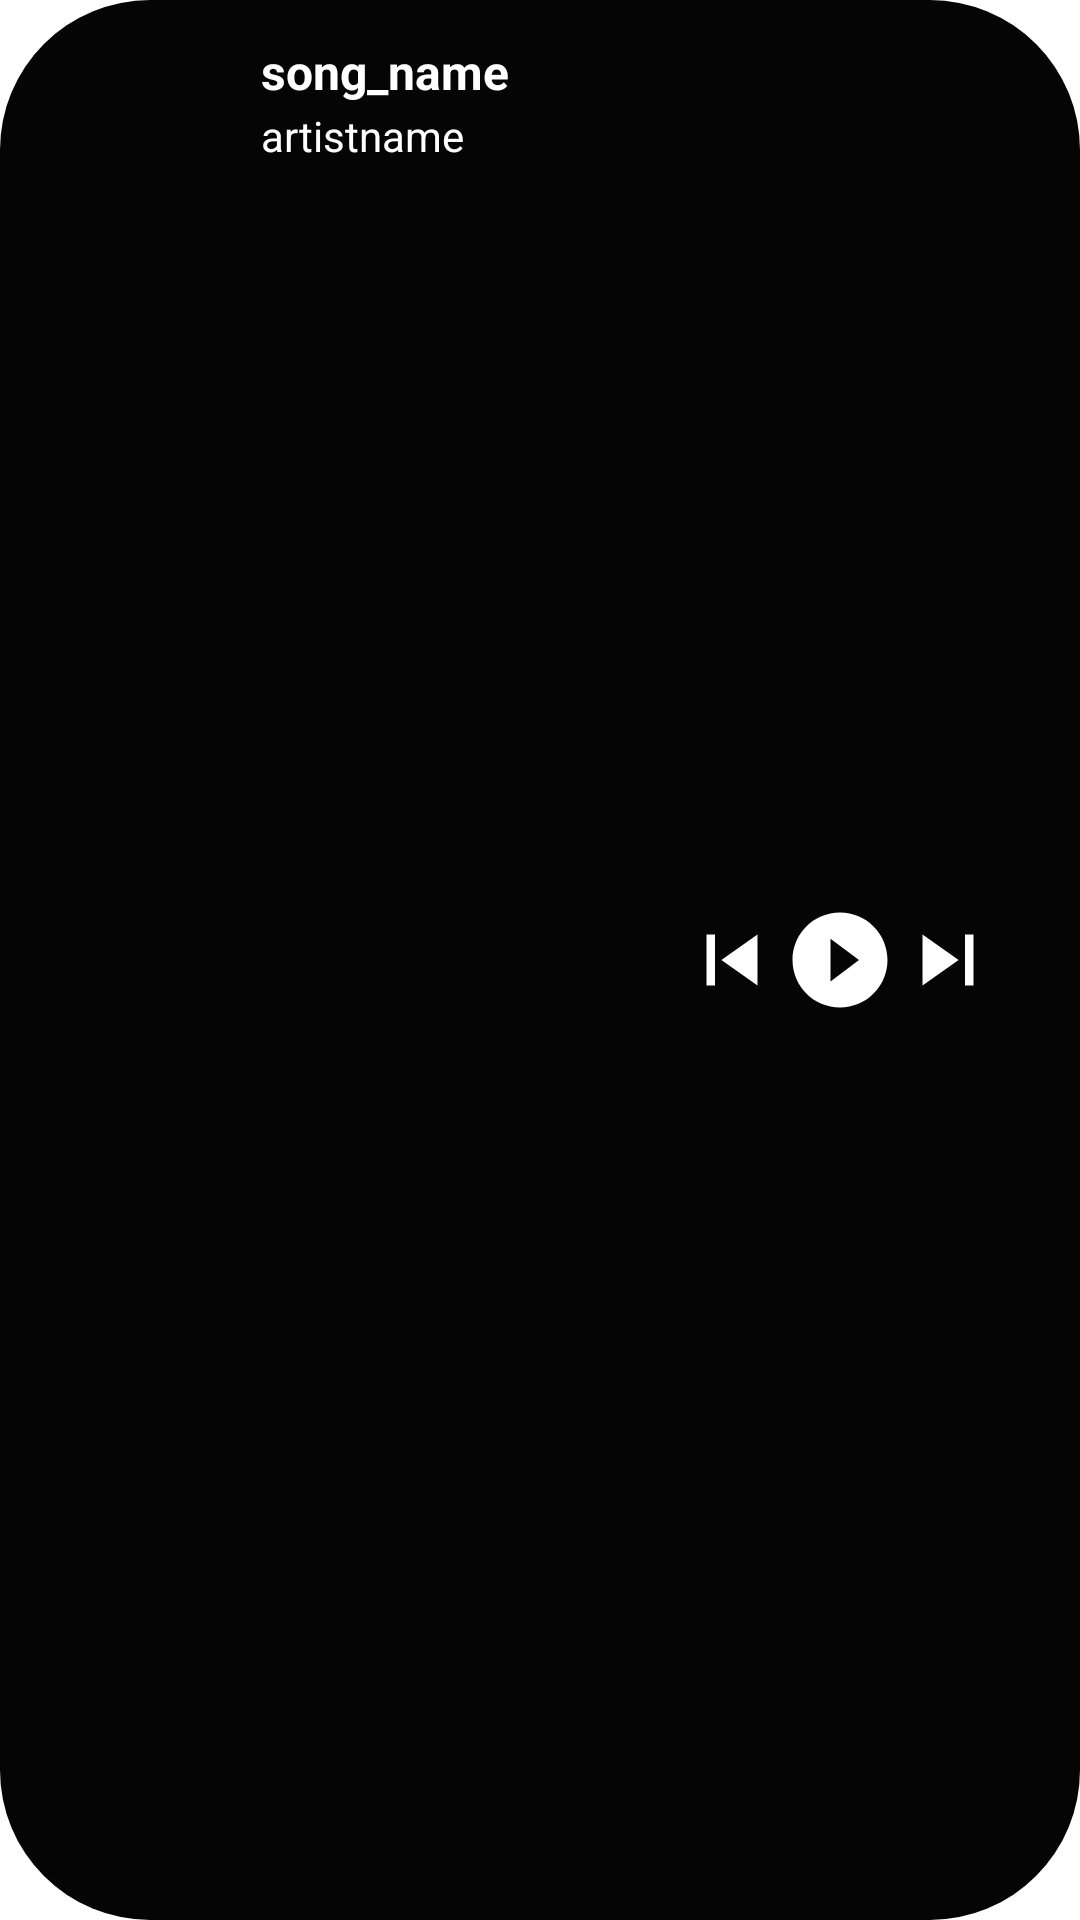

Icons on this 1080 x 1920 Android screen, each with its box as (x1, y1, x2, y2):
play circle: (792, 912, 888, 1008)
skip next: (922, 934, 974, 986)
skip previous: (706, 934, 758, 986)
